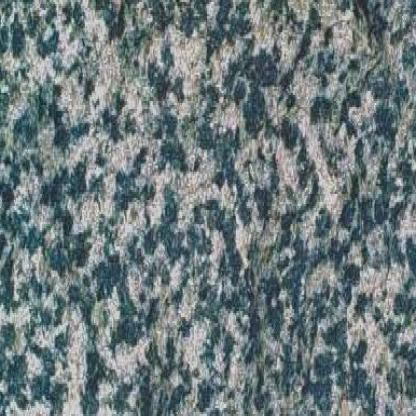Igneous_Diorite: (61, 46, 359, 376)
